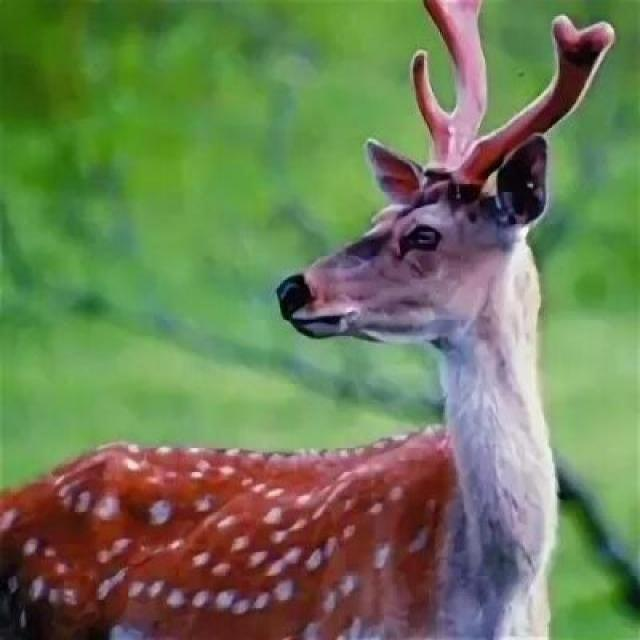deer: (60, 40, 640, 639)
